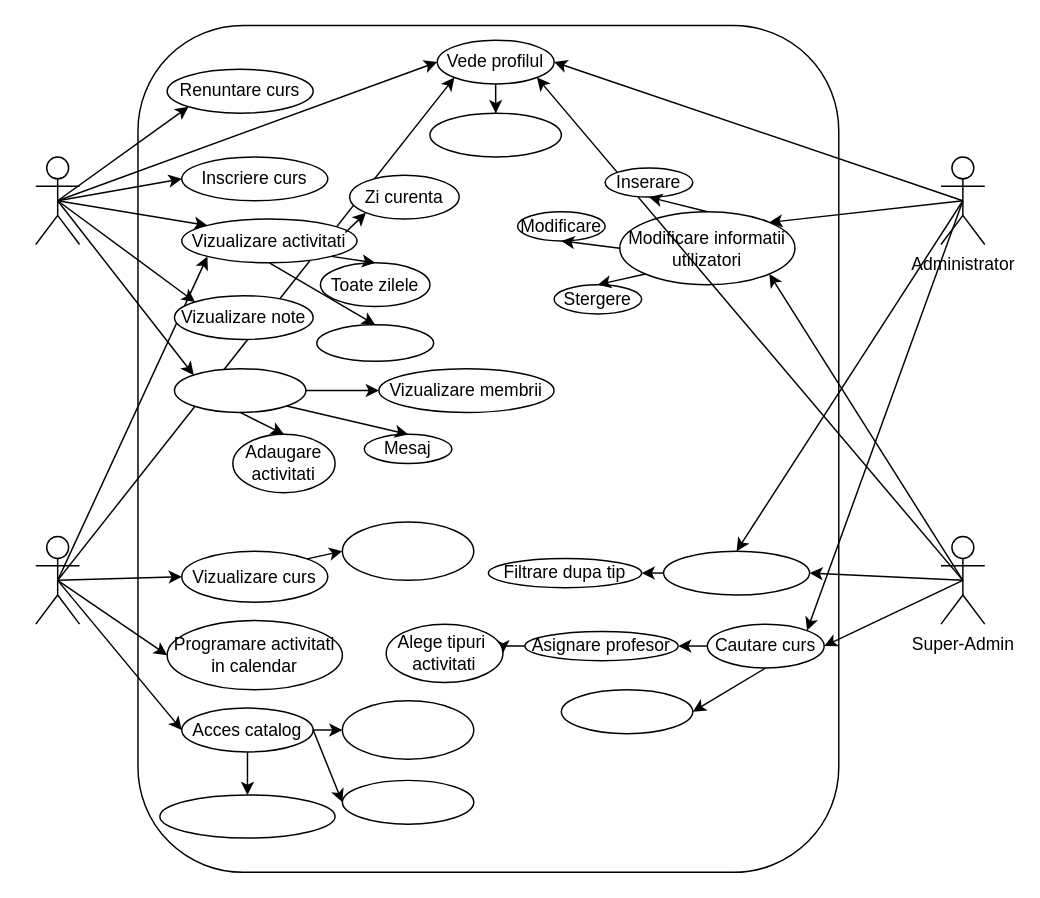
The diagram is 1040 pixels wide and 898 high, and some of its shapes have lost their labels. Each missing label, with the centre of its shape:
"Adaugare note" belongs at [407,801].
"Cautare utilizator" belongs at [736,572].
"Deautentificare" belongs at [495,134].
"Descarcare" belongs at [374,342].
"Descarcare catalog" belongs at [246,816].
"Filtra studenti dupa curs" belongs at [407,729].
"Impartire procentuala" belongs at [407,550].
"Inscriere grup" belongs at [239,389].
"Profesor" belongs at [57,579].
"Student" belongs at [57,200].
"Vizualizare studenti" belongs at [626,711].
